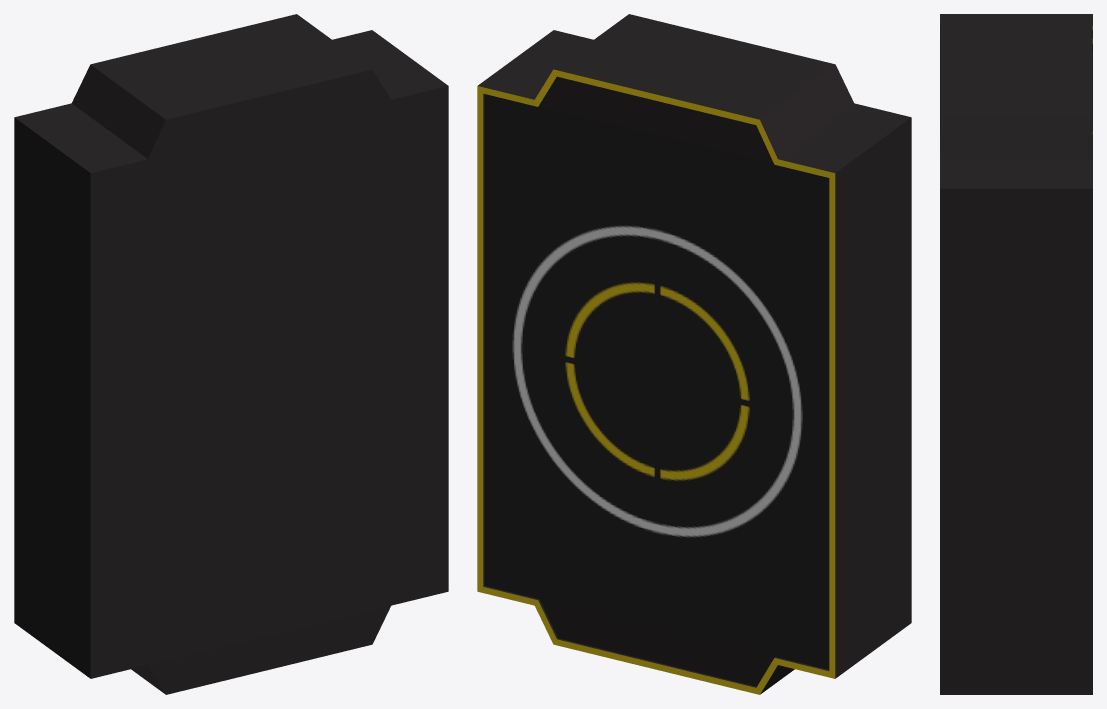
The model's file is landing.fbx.
3 renders of one model, left to right at view 1: azimuth 30°, elevation 25°; view 2: azimuth 150°, elevation 25°; view 3: azimuth 270°, elevation 25°, orthographic.
Parts seen in each view (by area): view 1: LandingPad; view 2: LandingPad; view 3: LandingPad.
Part boxes in pixels (box(x1,y1,x2,y2)): LandingPad: box(14, 14, 448, 694); LandingPad: box(477, 14, 911, 694); LandingPad: box(940, 14, 1092, 694).
Size of the model in its own units: 4000 by 6144 by 1479.
